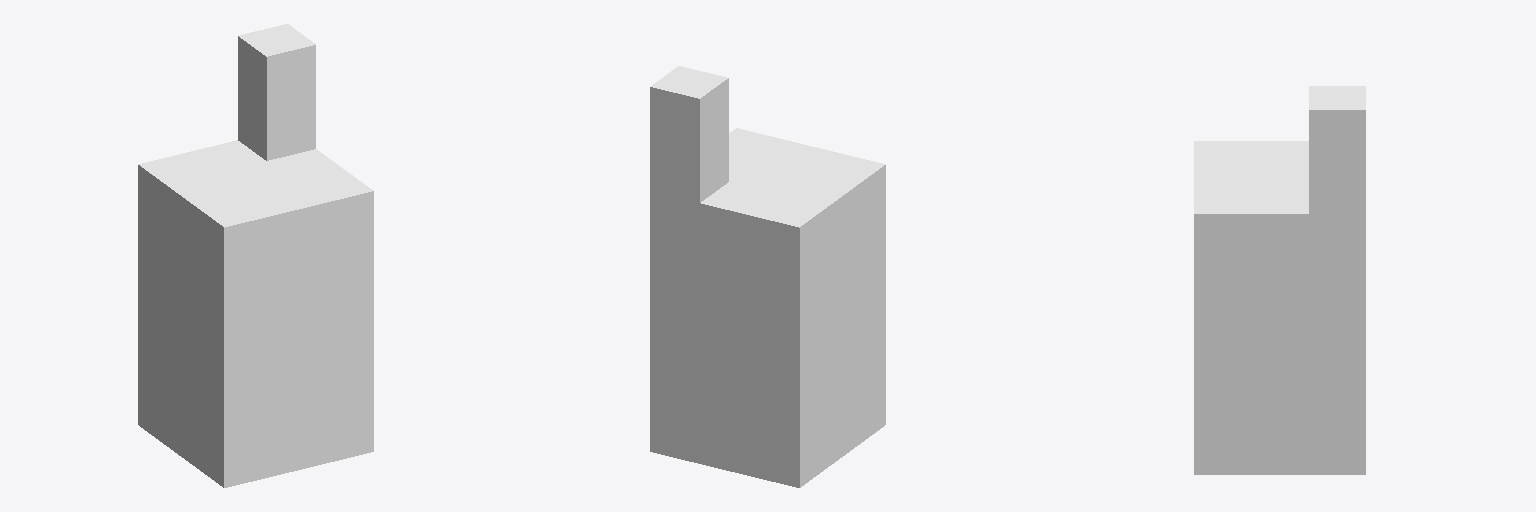
The model's file is Radio.obj.
The picture shows the model from 3 angles: view 1: azimuth 30°, elevation 25°; view 2: azimuth 150°, elevation 25°; view 3: azimuth 270°, elevation 25°; orthographic projection.
Visible parts, largest first — view 1: object 1; view 2: object 1; view 3: object 1.
Boxes of the visible parts, x1,y1,x2,y2 form: object 1: [138, 24, 373, 487]; object 1: [650, 66, 885, 487]; object 1: [1194, 86, 1365, 474].
Bounding box in the file's own units: 0.3 × 0.7 × 0.3.